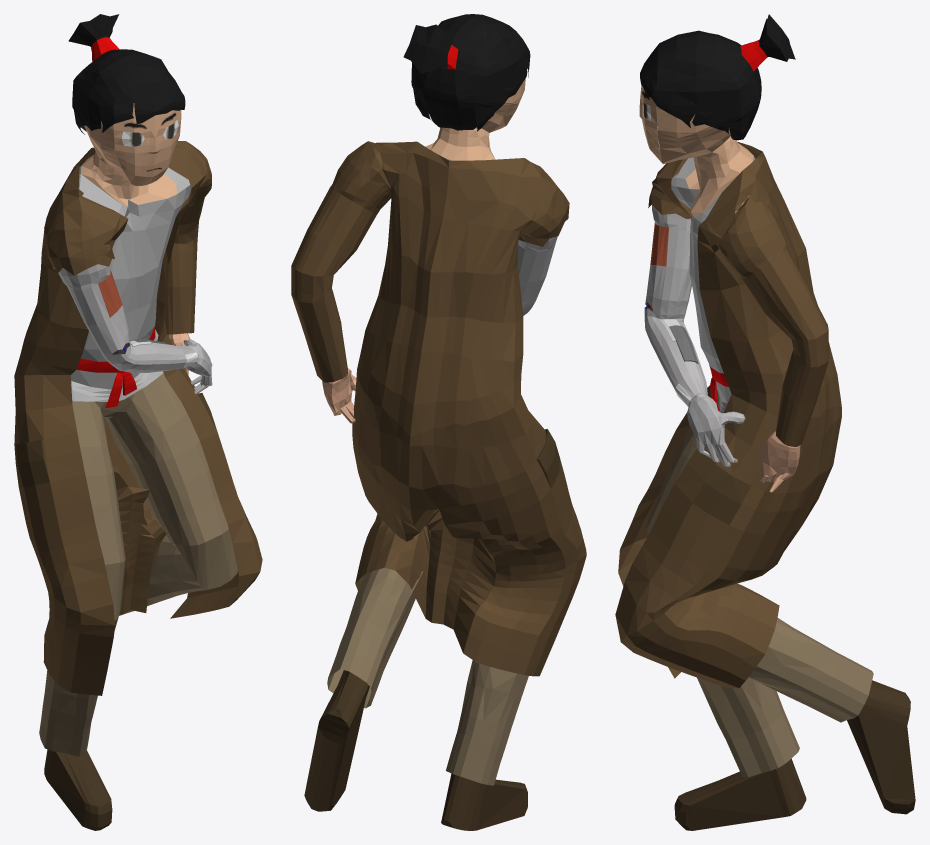
Rendered from One_RF_000006.obj.
3 views of the same model, side by side, from view 1: azimuth 30°, elevation 25°; view 2: azimuth 150°, elevation 25°; view 3: azimuth 270°, elevation 25° (orthographic). The views are drawn at different scales.
Visible parts, largest first — view 1: Hair_Cube.004; view 2: Hair_Cube.004; view 3: Hair_Cube.004.
Boxes of the visible parts, box(x1,y1,x2,y2) form: Hair_Cube.004: box(14, 14, 262, 830); Hair_Cube.004: box(291, 14, 586, 830); Hair_Cube.004: box(615, 14, 915, 830).
Size of the model in its own units: 1.09 by 3.82 by 1.26.
